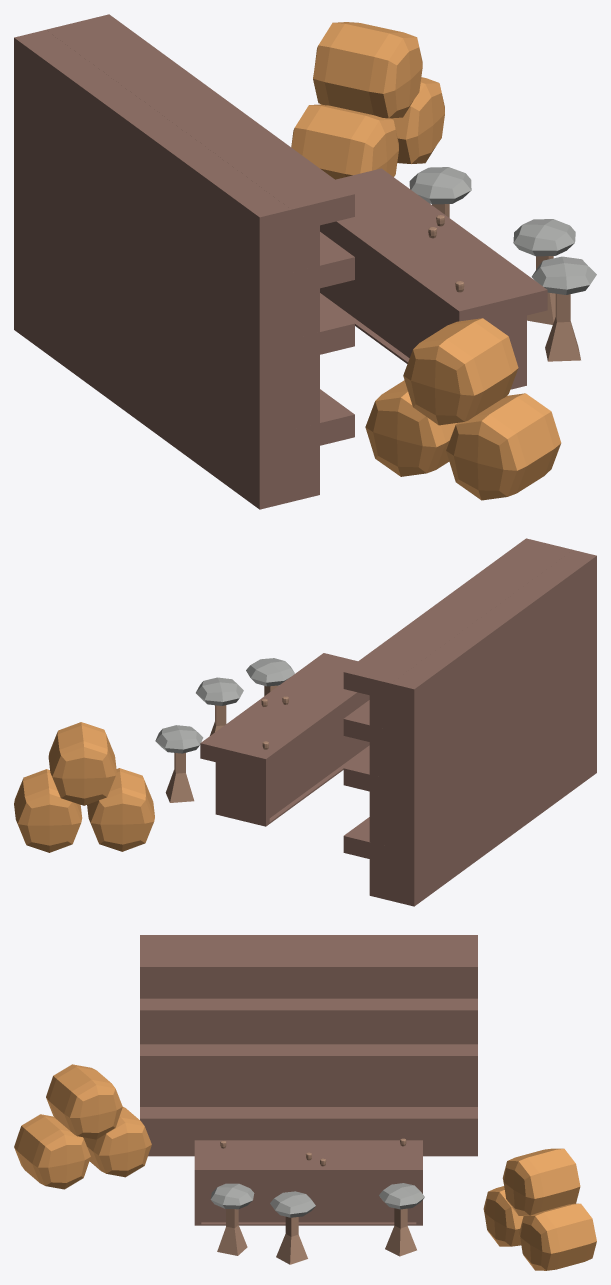
The model's file is random.glb.
3 renders of one model, top to bottom at view 1: azimuth 30°, elevation 25°; view 2: azimuth 150°, elevation 25°; view 3: azimuth 270°, elevation 25°, orthographic. The views are drawn at different scales.
Visible parts, largest first — view 1: Cube.001; view 2: Cube.001; view 3: Cube.001.
Boxes of the visible parts, bbox=[...] form: Cube.001: bbox=[14, 14, 596, 509]; Cube.001: bbox=[14, 538, 596, 906]; Cube.001: bbox=[14, 935, 596, 1270].
Size of the model in its own units: 10.9 by 6.29 by 16.52.
